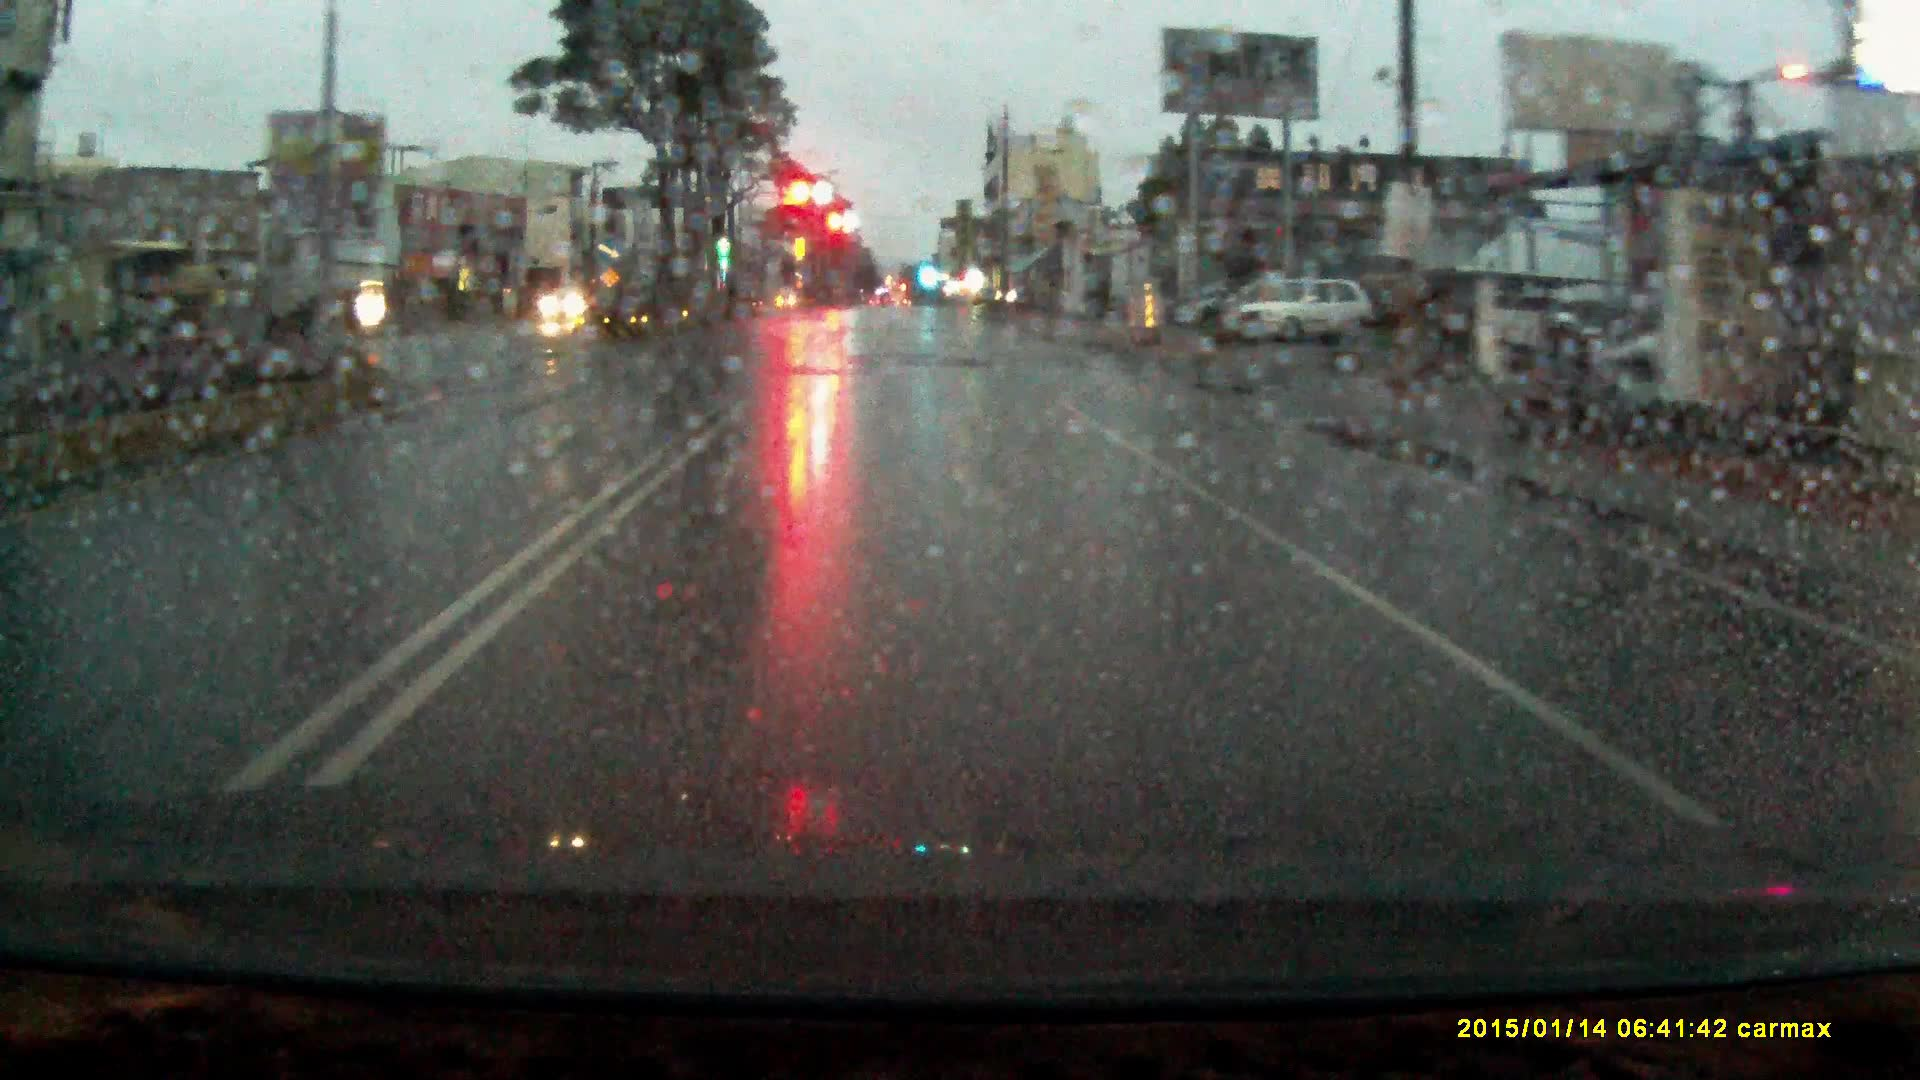vehicle: (1225, 274, 1379, 347), (1200, 284, 1316, 348), (545, 287, 597, 327)
